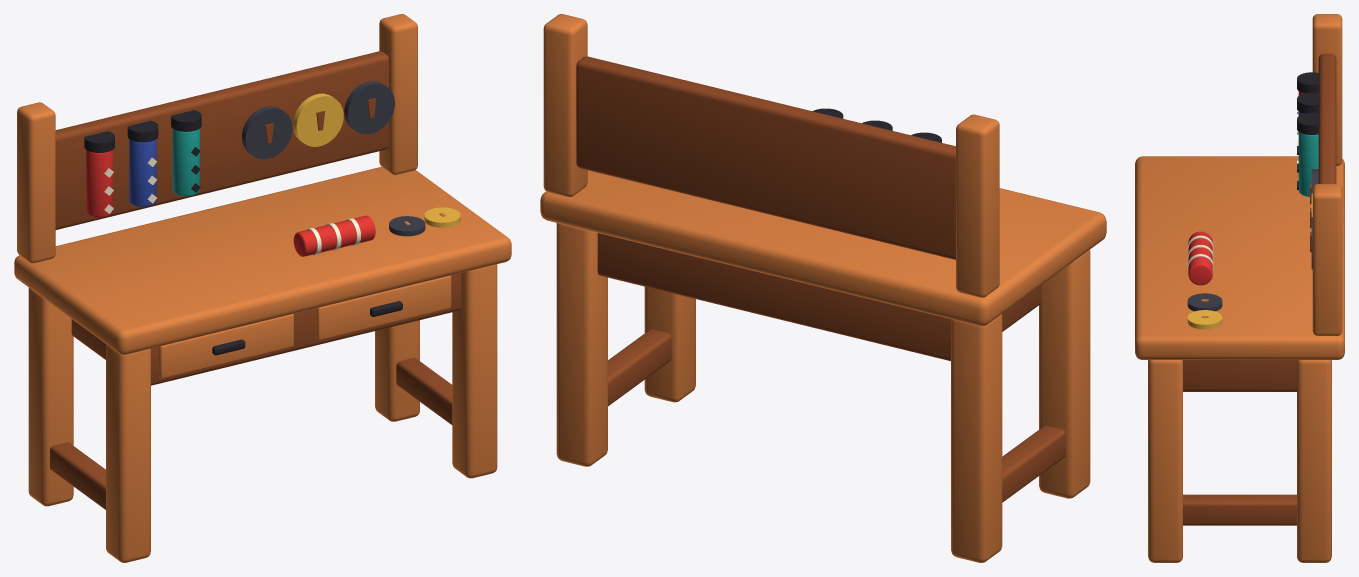
Rendered from HiltBench.fbx.
3 views of the same model, side by side, from view 1: azimuth 30°, elevation 25°; view 2: azimuth 150°, elevation 25°; view 3: azimuth 270°, elevation 25° (orthographic). The views are drawn at different scales.
Parts seen in each view (by area): view 1: Top, Board, Leg, Leg.002, Leg.001, BoardPost, BoardPost.001, Drawer.001, Drawer, Apron, Leg.003, Stretcher.001 (+10 smaller); view 2: Board, Top, Apron, Leg.001, Leg.003, Leg, BoardPost, BoardPost.001, Leg.002, Stretcher, Stretcher.001; view 3: Top, Leg.002, Leg.003, BoardPost.001, Apron, Stretcher.001, Board, BoardPost, WorkGrip, PegGrip2, WorkTsuba1, WorkTsuba0 (+3 smaller).
Part boxes in pixels (bbox=[...]): Top: bbox=[14, 166, 511, 354]; Board: bbox=[55, 51, 388, 229]; Leg: bbox=[106, 344, 150, 562]; Leg.002: bbox=[452, 264, 497, 478]; Leg.001: bbox=[28, 288, 73, 506]; BoardPost: bbox=[17, 102, 55, 263]; BoardPost.001: bbox=[379, 14, 417, 174]; Drawer.001: bbox=[316, 275, 451, 340]; Drawer: bbox=[159, 314, 293, 378]; Apron: bbox=[71, 273, 461, 385]; Leg.003: bbox=[375, 320, 419, 421]; Stretcher.001: bbox=[396, 357, 452, 424]; Board: bbox=[576, 56, 955, 259]; Top: bbox=[540, 170, 1106, 326]; Apron: bbox=[597, 233, 1040, 361]; Leg.001: bbox=[951, 314, 1002, 562]; Leg.003: bbox=[556, 223, 607, 466]; Leg: bbox=[1039, 250, 1090, 498]; BoardPost: bbox=[956, 114, 999, 297]; BoardPost.001: bbox=[543, 14, 587, 196]; Leg.002: bbox=[644, 286, 695, 402]; Stretcher: bbox=[1002, 425, 1065, 502]; Stretcher.001: bbox=[608, 329, 671, 406]; Top: bbox=[1135, 156, 1344, 359]; Leg.002: bbox=[1148, 360, 1182, 562]; Leg.003: bbox=[1297, 360, 1331, 562]; BoardPost.001: bbox=[1312, 184, 1342, 335]; Apron: bbox=[1183, 360, 1296, 391]; Stretcher.001: bbox=[1183, 494, 1296, 525]; Board: bbox=[1318, 53, 1336, 183]; BoardPost: bbox=[1312, 14, 1342, 165]; WorkGrip: bbox=[1188, 231, 1212, 285]; PegGrip2: bbox=[1298, 132, 1318, 196]; WorkTsuba1: bbox=[1187, 310, 1222, 329]; WorkTsuba0: bbox=[1187, 293, 1222, 311].
Size of the model in its own units: 5 by 4.7 by 2.4.
